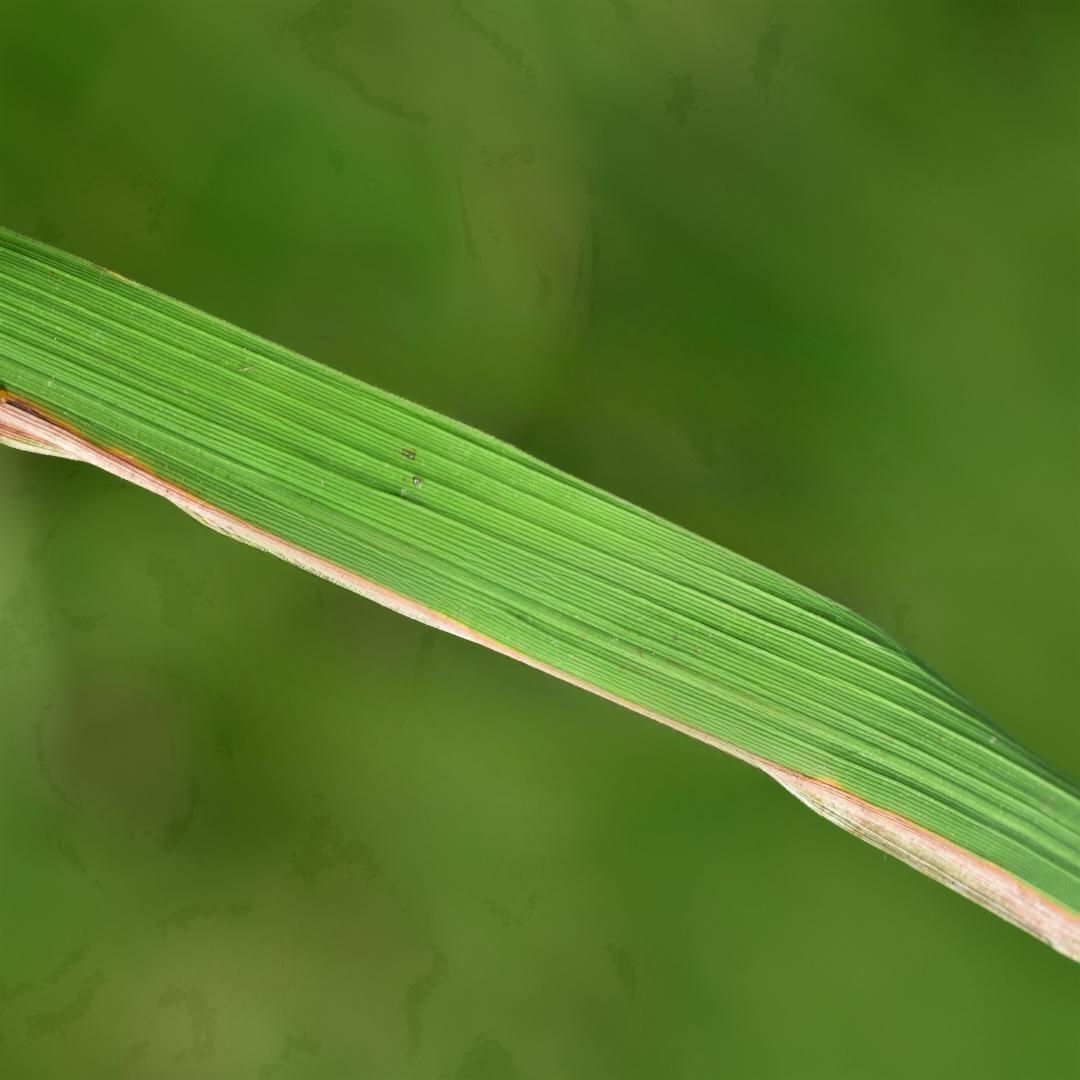BLB: (0, 392, 1079, 962)
